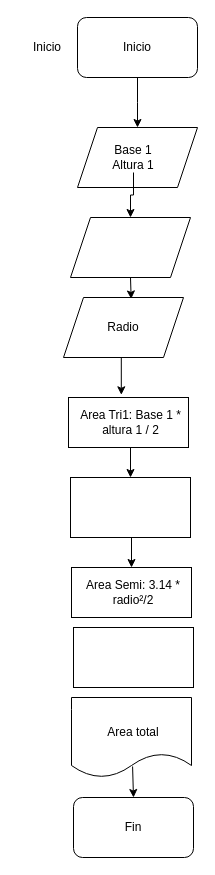
This 215x875 diagram has some shape labels left out. Each missing label, with the box of its shape:
Area Tot: Area Tri1 + Area Tri 2: + AreaSemi: (72, 626, 194, 688)
Area Tri2: Base2 Altura2 / 2: (70, 476, 190, 538)
Base 2 Altura 2: (70, 216, 190, 278)
